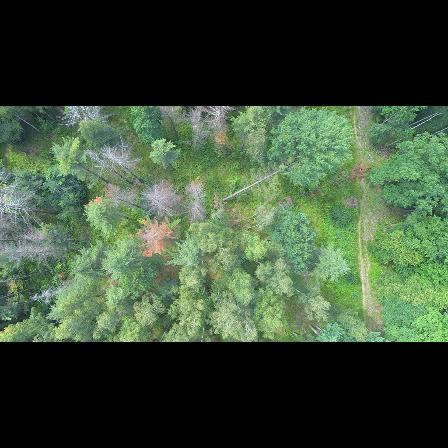Dead: (0, 191, 63, 222), (102, 147, 152, 182), (82, 150, 129, 183), (56, 106, 112, 130), (1, 242, 70, 260), (207, 106, 236, 145), (147, 185, 181, 217), (183, 106, 208, 149), (28, 283, 70, 305), (188, 186, 211, 223)
